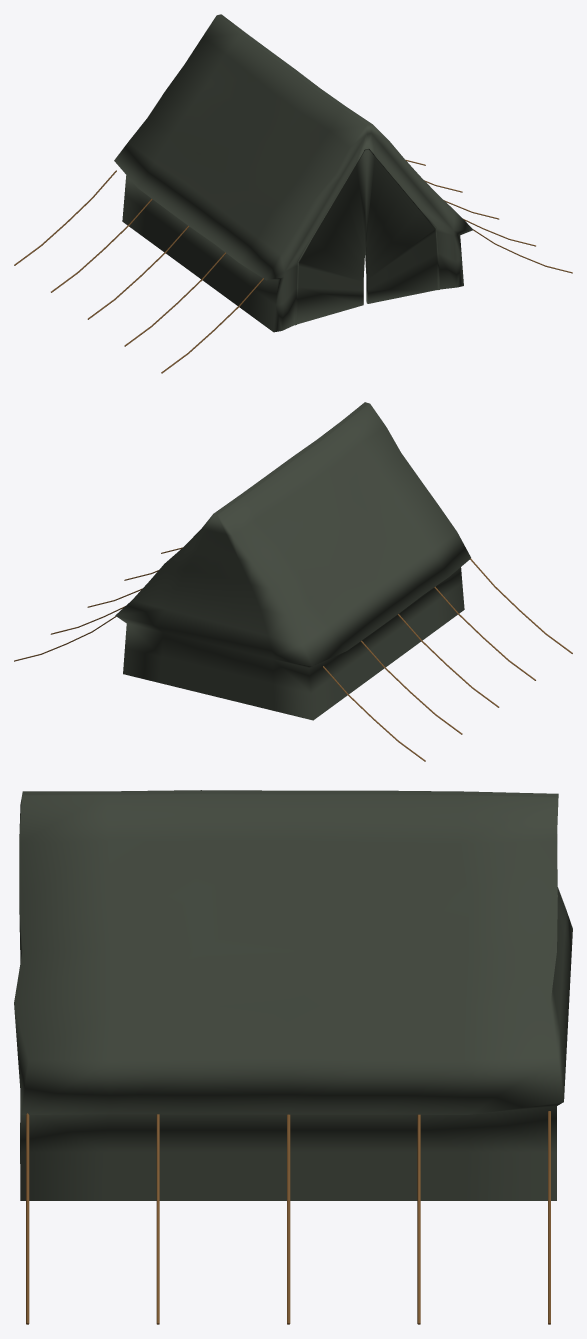
File: tent_closed.fbx
The picture shows the model from 3 angles, top to bottom: view 1: azimuth 30°, elevation 25°; view 2: azimuth 150°, elevation 25°; view 3: azimuth 270°, elevation 25°; orthographic projection. The views are drawn at different scales.
Parts seen in each view (by area): view 1: Cube, ropes; view 2: Cube, ropes; view 3: Cube, ropes.
Part boxes in pixels (bbox=[...]): Cube: bbox=[114, 14, 473, 332]; ropes: bbox=[14, 159, 572, 373]; Cube: bbox=[115, 402, 470, 720]; ropes: bbox=[14, 547, 572, 761]; Cube: bbox=[14, 790, 572, 1200]; ropes: bbox=[26, 1111, 550, 1324].
Size of the model in its own units: 2409 by 1119 by 1599.
